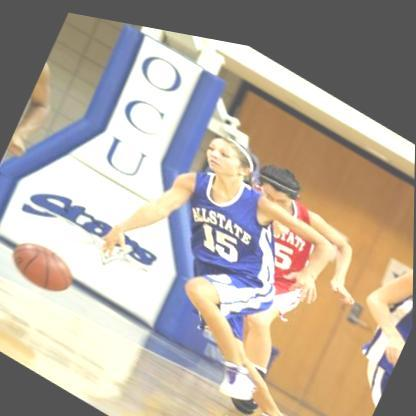basketball: (6, 229, 79, 299)
